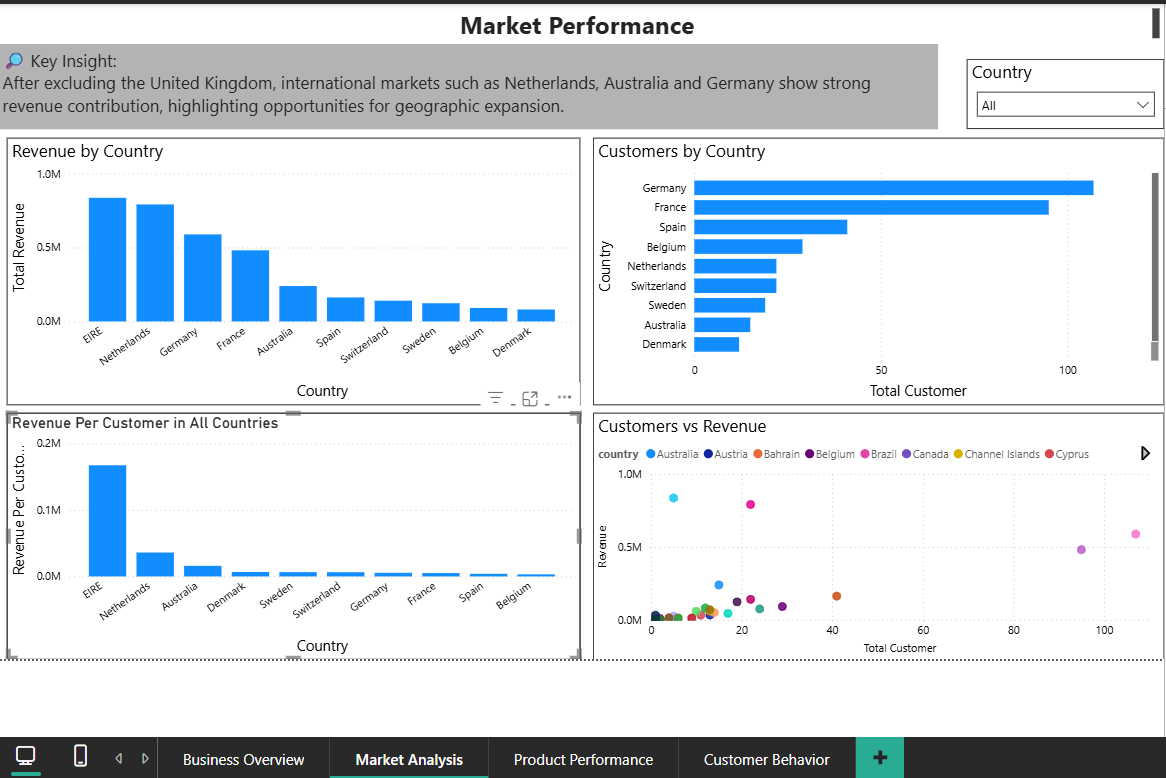

The dashboard page shown, as its layout file describes it:
{"tool":"powerbi","page":{"name":"Market Analysis","canvas":[1280,720],"ordinal":1},"visuals":[{"type":"clusteredColumnChart","title":"Revenue by Country","fields":{"Category":["retail_intelligence country_performance_vw.country"],"Y":["Sum(retail_intelligence country_performance_vw.total_revenue)"]},"box":[9.6,146.8,629.8,293.7],"z":0},{"type":"clusteredBarChart","title":"Customers by Country","fields":{"Category":["retail_intelligence country_performance_vw.country"],"Y":["Sum(retail_intelligence country_performance_vw.total_customers)"]},"box":[653.2,146.8,627.1,293.7],"z":1000},{"type":"clusteredColumnChart","fields":{"Category":["retail_intelligence country_performance_vw.country"],"Y":["Sum(retail_intelligence country_performance_vw.revenue_per_customer)"]},"box":[9.6,448.7,629.8,271.7],"z":2000},{"type":"scatterChart","title":"Customers vs Revenue","fields":{"X":["retail_intelligence country_performance_vw.total_customers"],"Series":["retail_intelligence country_performance_vw.country"],"Y":["retail_intelligence country_performance_vw.total_revenue"]},"box":[653.2,448.7,627.1,271.7],"z":3000},{"type":"textbox","box":[0,0,1280.3,43.9],"z":4000},{"type":"slicer","title":"Country","fields":{"Values":["retail_intelligence country_performance_vw.country"]},"box":[1063.5,60.4,216.8,76.8],"z":5000},{"type":"textbox","box":[0,43.9,1031.9,93.3],"z":5001}]}

Visuals, with their boxes on the page's 1280x720 design canvas (x1, y1, x2, y2). These are canvas units, not pixel positions in the 1166x778 screenshot, which may show the page scaled, cropped or inside an application window:
"Revenue by Country" clusteredColumnChart: (10, 147, 639, 440)
"Customers by Country" clusteredBarChart: (653, 147, 1280, 440)
clusteredColumnChart - retail_intelligence country_performance_vw.country x Sum(retail_intelligence country_performance_vw.revenue_per_customer): (10, 449, 639, 720)
"Customers vs Revenue" scatterChart: (653, 449, 1280, 720)
textbox: (0, 0, 1280, 44)
"Country" slicer: (1064, 60, 1280, 137)
textbox: (0, 44, 1032, 137)
